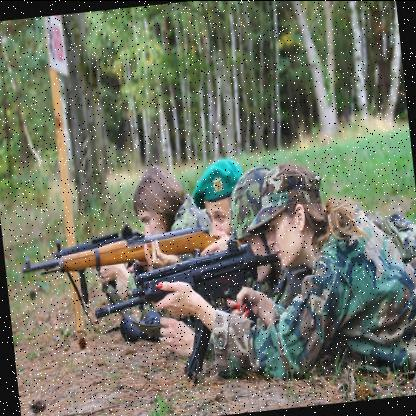rifle: (94, 227, 291, 395), (13, 218, 149, 344), (41, 228, 228, 308)
